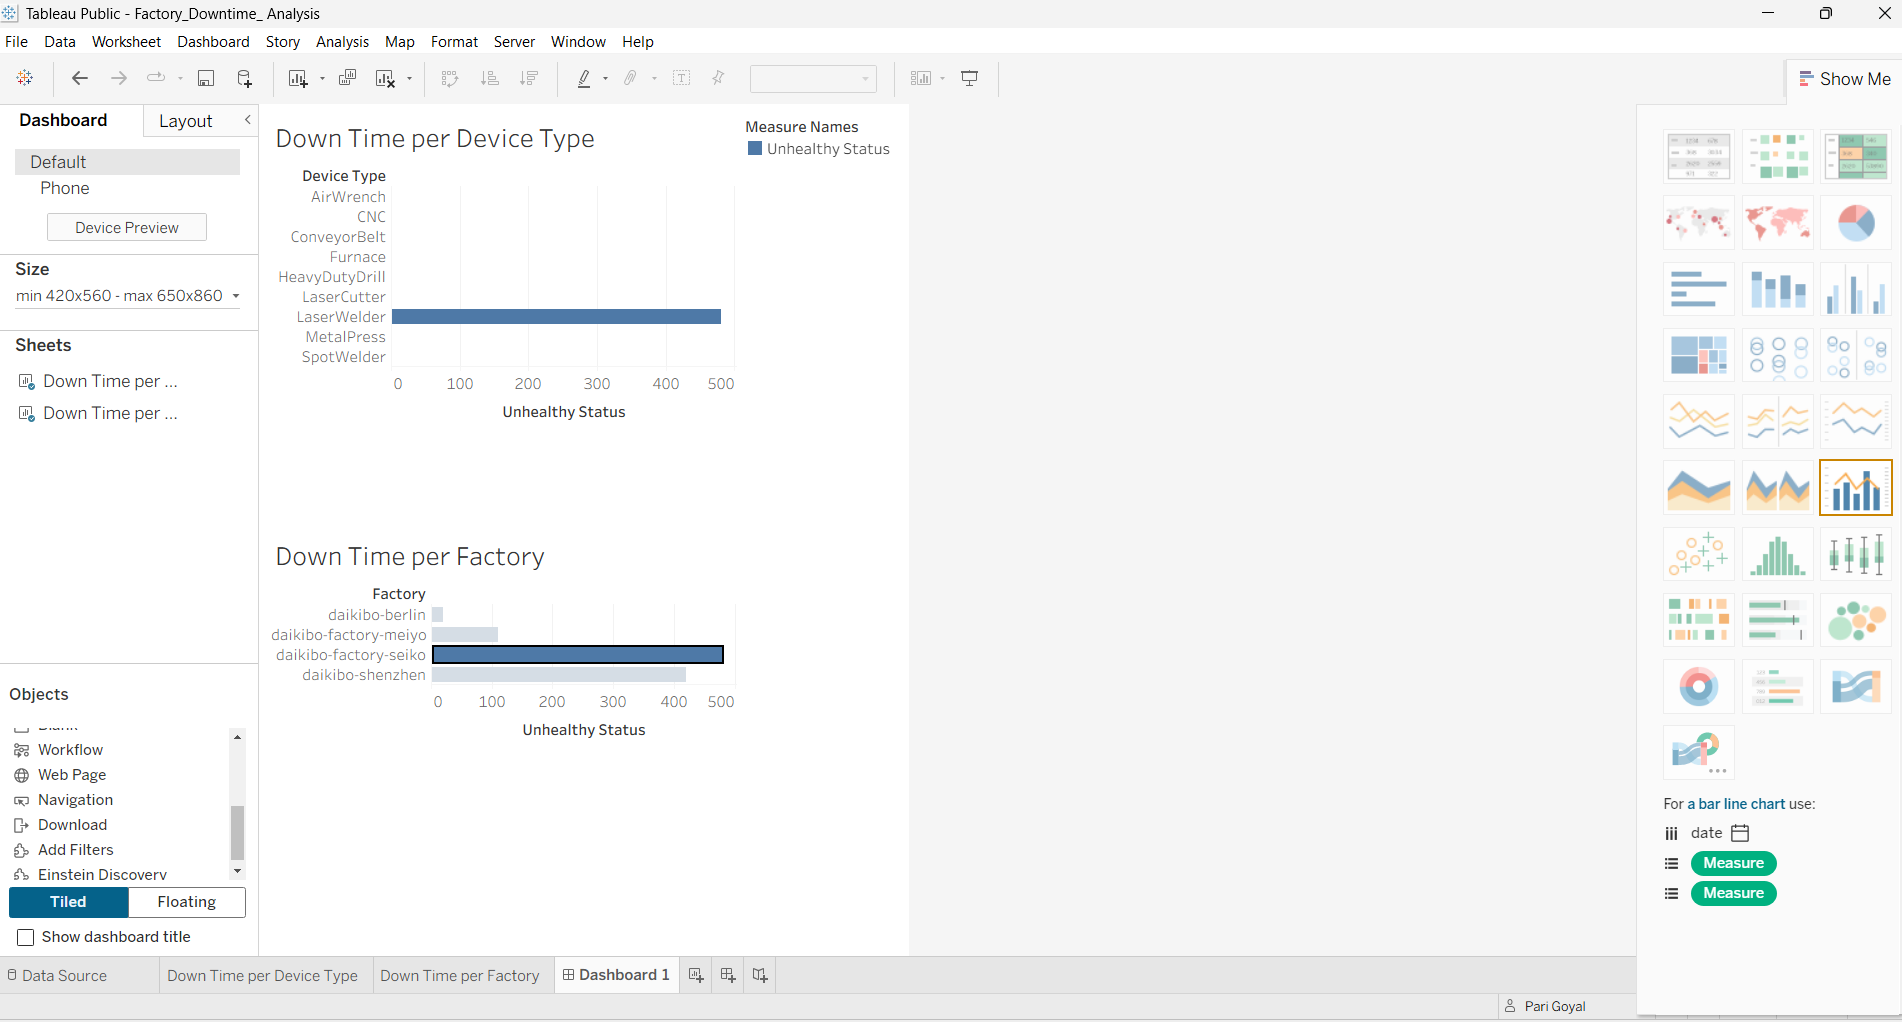

What the dashboard file says about the page in this screenshot:
{"tool":"tableau","page":{"name":"Dashboard 1","canvas":[650,860],"ordinal":0},"visuals":[{"type":"worksheet","title":"Down Time per Device Type","mark":"Automatic","rows":["deviceType"],"cols":["Calculation_0175116226490368"],"box":[8,8.1,474,421.9]},{"type":"legend","title":"Down Time per Device Type","param":"[federated.1svu4b20756jh3120crgr1cvph95].[:Measure Names]","box":[482,8.1,160,51.5]},{"type":"worksheet","title":"Down Time per Factory","mark":"Automatic","rows":["factory"],"cols":["Calculation_0175116226490368"],"box":[8,430,474,421.9]}]}

Visuals, with their boxes on the page's 650x860 design canvas (x1, y1, x2, y2). These are canvas units, not pixel positions in the 1902x1022 screenshot, which may show the page scaled, cropped or inside an application window:
"Down Time per Device Type" worksheet: [8,8,482,430]
"Down Time per Device Type" legend: [482,8,642,60]
"Down Time per Factory" worksheet: [8,430,482,852]
